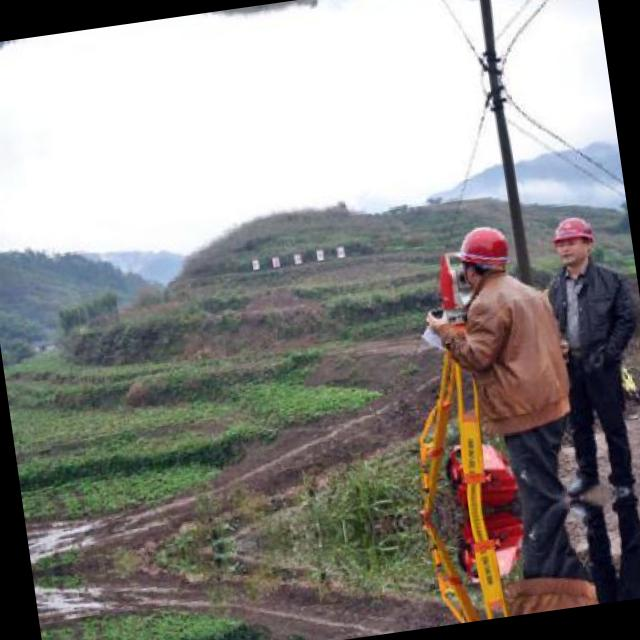helmet: (448, 216, 520, 294), (546, 207, 600, 272)
